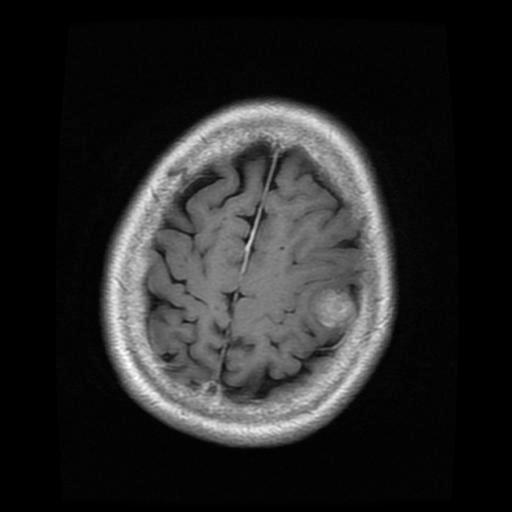Tumour-Meningioma: (301, 278, 371, 352)
